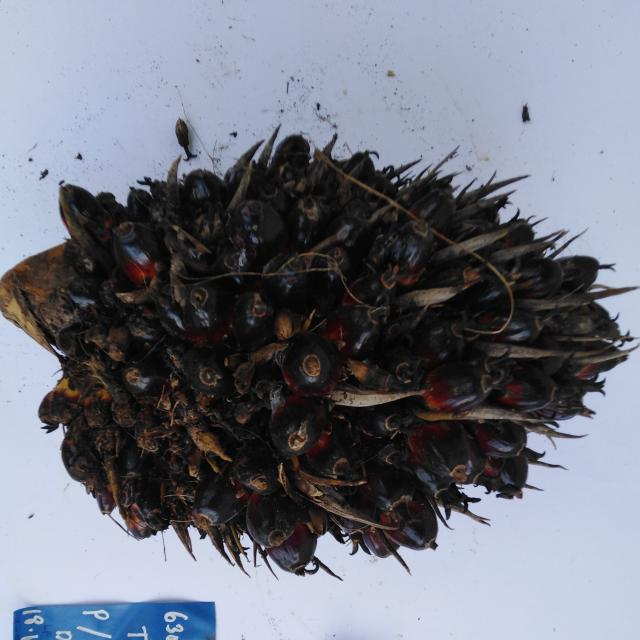FFB: (53, 148, 625, 560)
